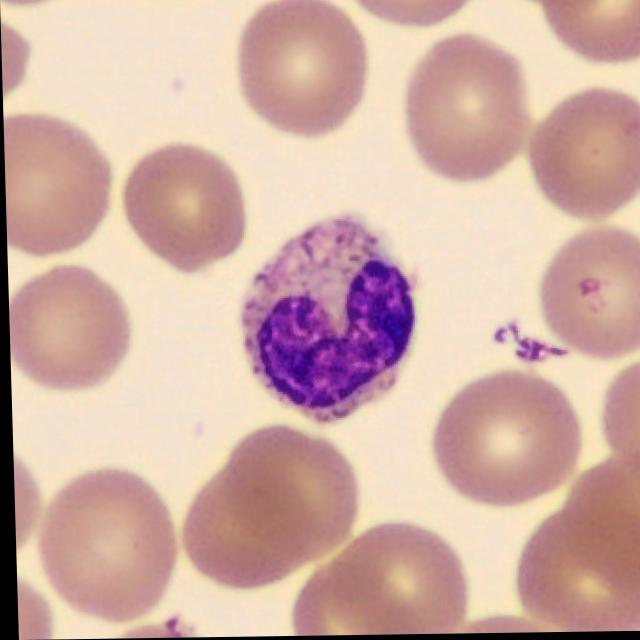Bastonete: (238, 215, 415, 427)
